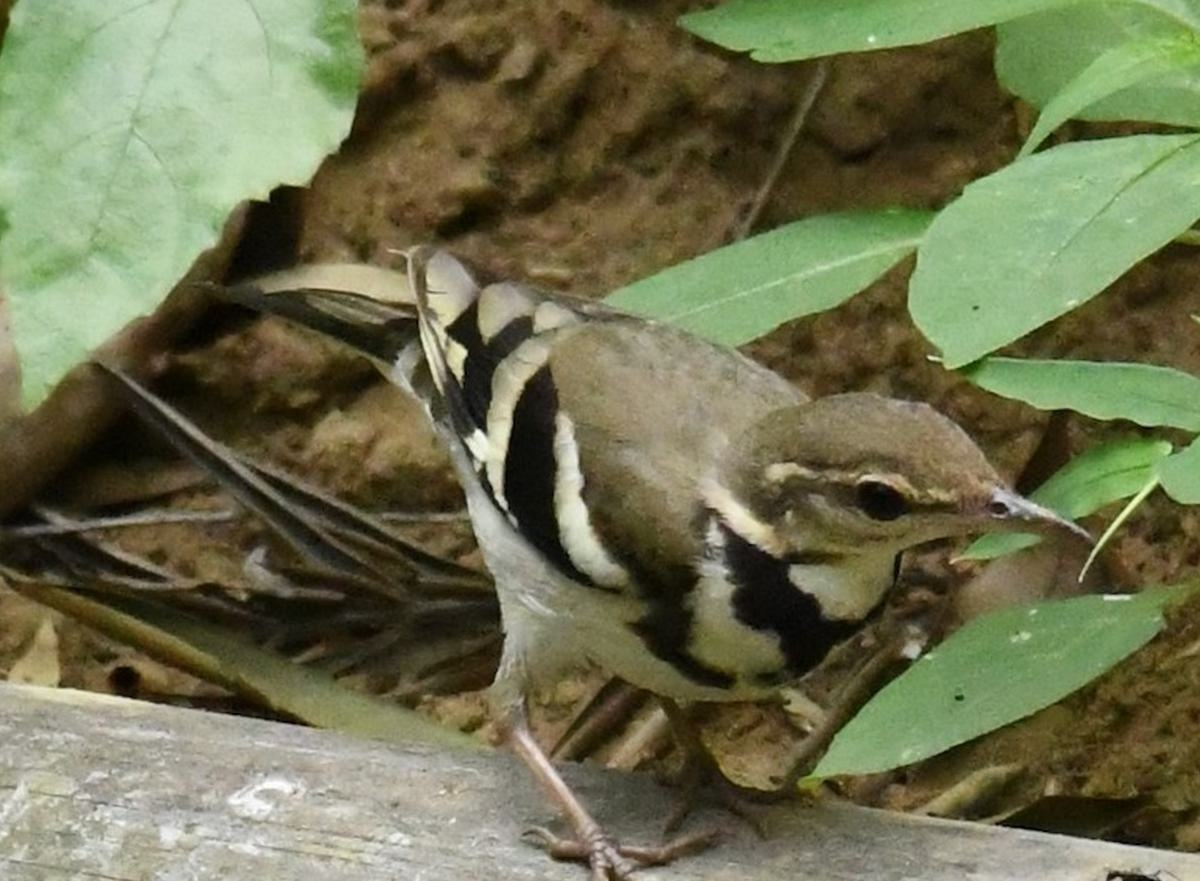wagtail: (328, 244, 971, 768)
